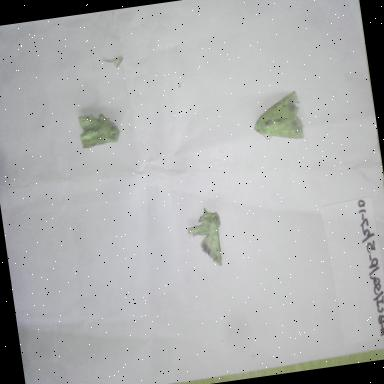abw: (244, 74, 312, 156), (181, 202, 231, 280), (72, 102, 126, 156)
